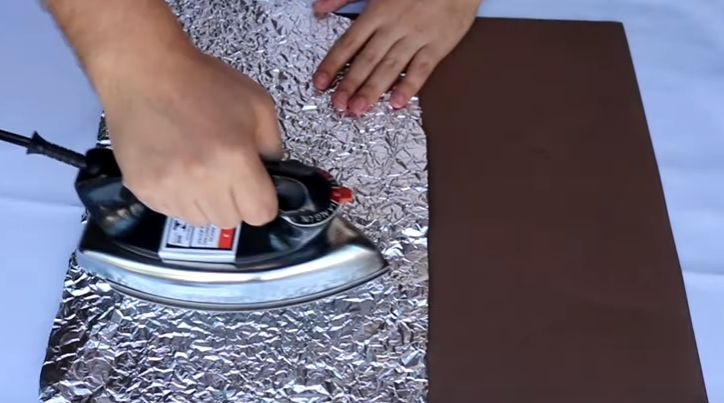cuero: (1, 127, 339, 274)
